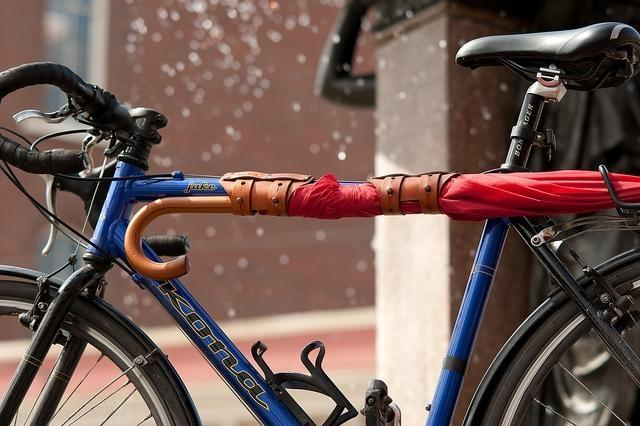bicycle: (1, 22, 640, 426)
